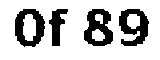0: (14, 6, 46, 48)
8: (82, 4, 114, 50)
9: (118, 6, 152, 49)
f: (49, 5, 69, 48)
